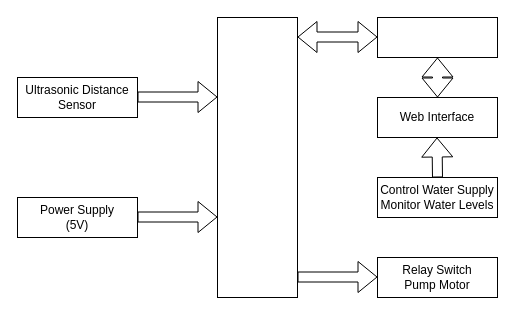
Image size: 515x315. Some labels were removed from this diagram. The shapes that lost their labels are listed below. From the top down, each one's centre as x and y in pixels, then its label:
At (437,37): "Database".
At (257,157): "Raspberry Pi".
